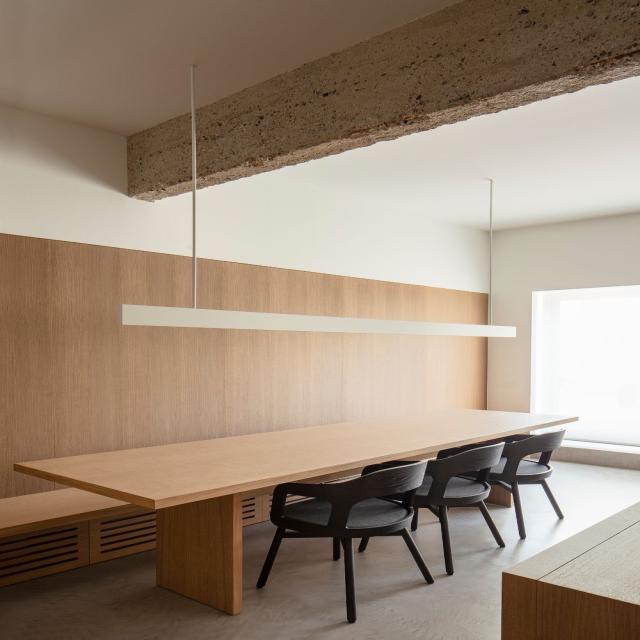table: (9, 401, 602, 613)
